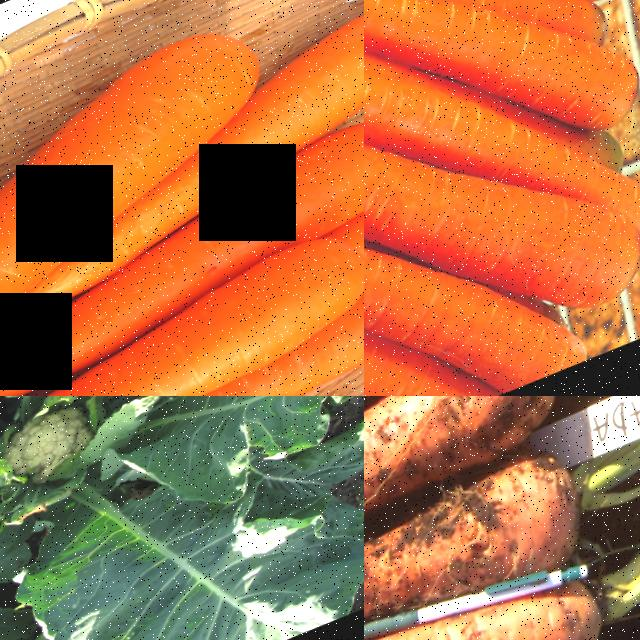carrot: (0, 145, 364, 386), (0, 27, 234, 287), (0, 254, 364, 396), (364, 396, 574, 578), (364, 460, 576, 640), (425, 198, 640, 367), (468, 0, 640, 186), (225, 17, 364, 168), (364, 592, 615, 640), (416, 0, 640, 48)
cauliflower: (0, 396, 168, 586)
